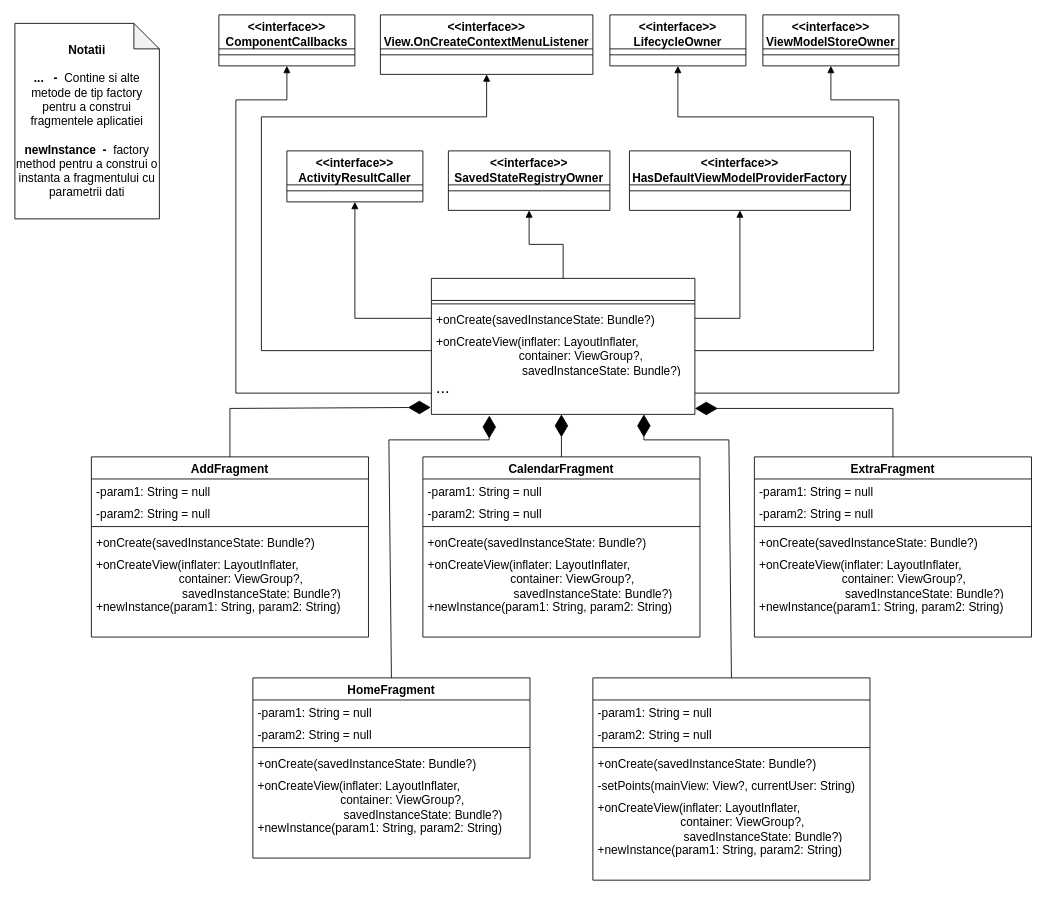
The diagram is 1046 pixels wide and 898 high, and some of its shapes have lost their labels. Each missing label, with the box of its shape:
Fragment: (431, 278, 695, 414)
SettingsFragment: (592, 677, 870, 880)
